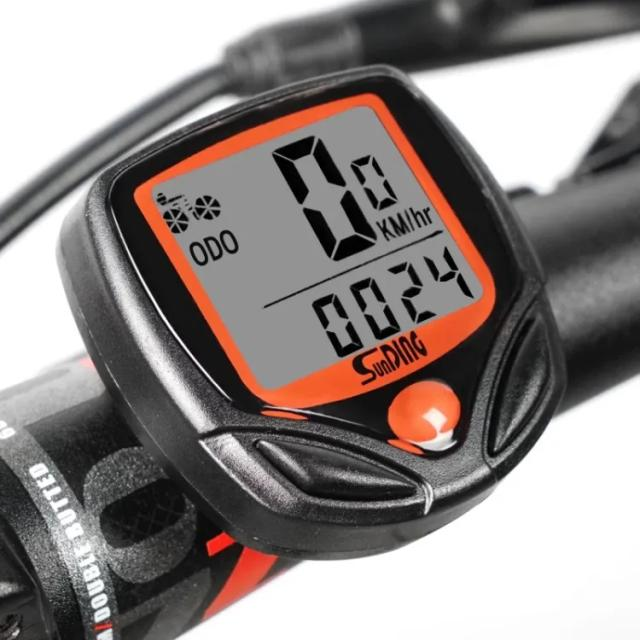display: (154, 104, 485, 389)
frame: (300, 243, 479, 366), (264, 121, 402, 261)
gauge: (58, 64, 566, 560)
